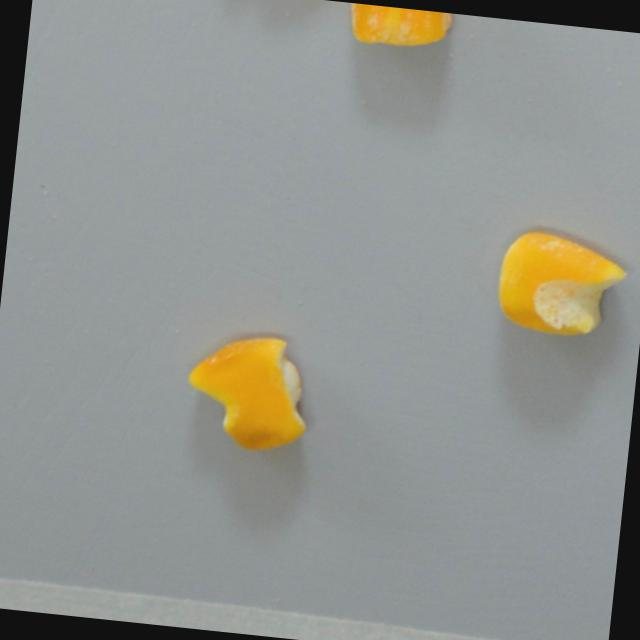no_canjicado: (178, 326, 316, 458)
pelicula: (491, 226, 632, 343), (343, 1, 453, 54)
